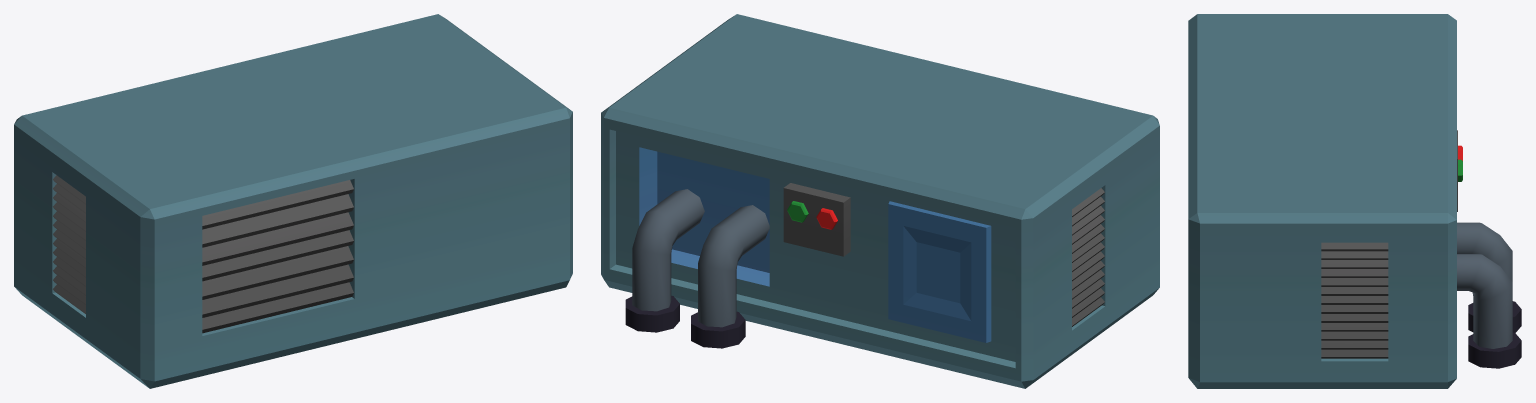
Rendered from Vent_4_B.fbx.
3 renders of one model, left to right at view 1: azimuth 30°, elevation 25°; view 2: azimuth 150°, elevation 25°; view 3: azimuth 270°, elevation 25°, orthographic. The views are drawn at different scales.
Parts seen in each view (by area): view 1: Vent_4_B; view 2: Vent_4_B; view 3: Vent_4_B.
Part boxes in pixels (box(x1,y1,x2,y2)): Vent_4_B: box(14, 14, 572, 388); Vent_4_B: box(601, 14, 1159, 388); Vent_4_B: box(1188, 14, 1521, 388).
Size of the model in its own units: 101 by 40.11 by 68.82.
